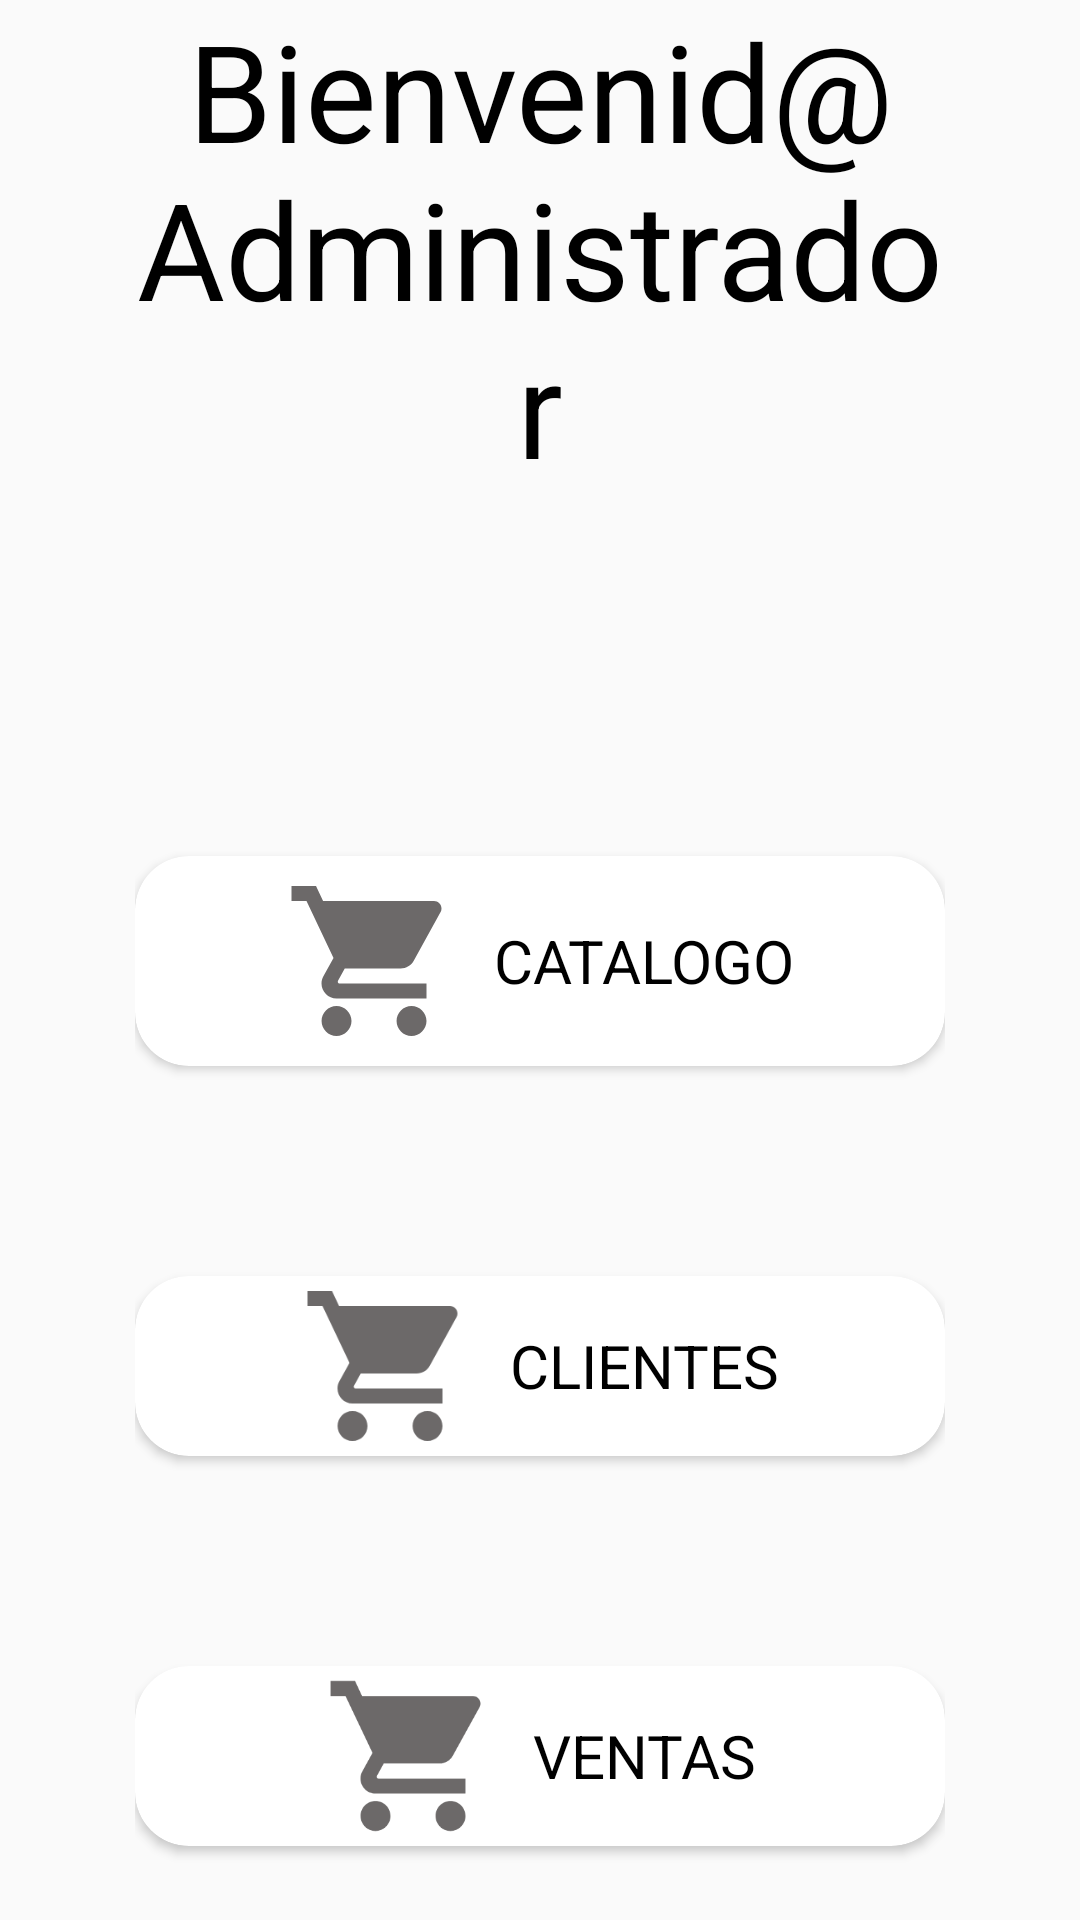

Locate icon controls on the screen. Image size 1080x1920, boxes as (x1, y1, x2, y2).
shopping cart: (291, 886, 442, 1036), (307, 1291, 458, 1441), (330, 1680, 481, 1832)
